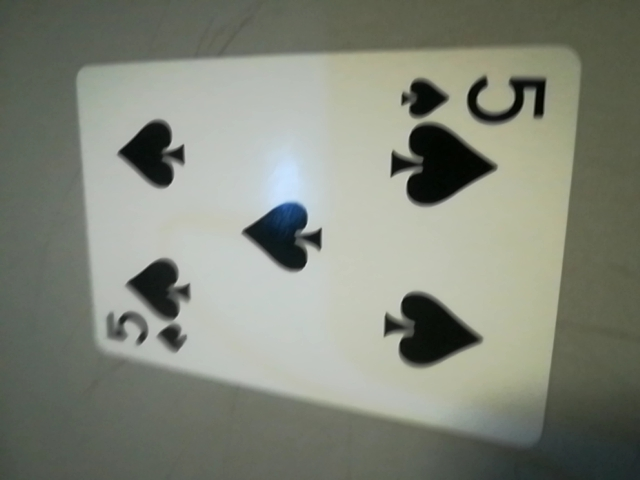ht 5: (386, 65, 562, 140)
